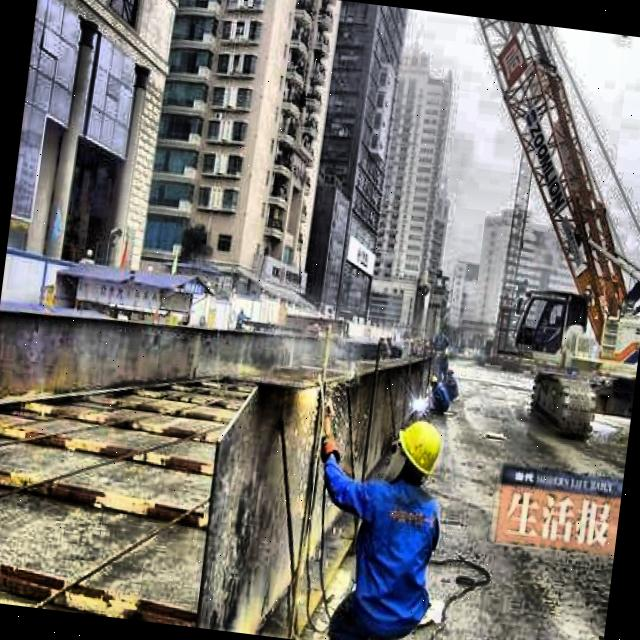helmet: (387, 413, 447, 485)
